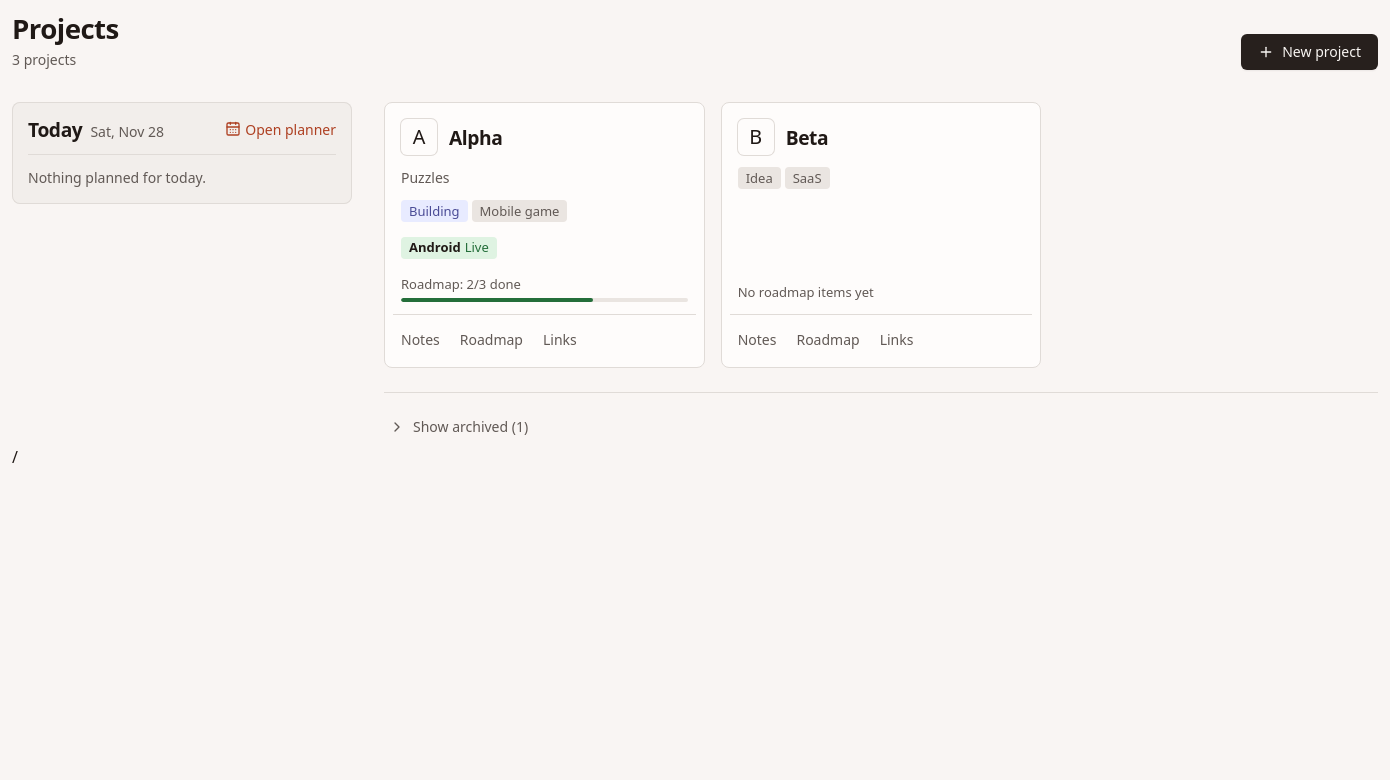
Test: DashboardPage › renders project cards sorted by order, with progress, store chips and archived ones collapsed
Expected: the headings read "Today", "Alpha", "Beta", in this order, [28,118,82,141]; [449,126,502,149]; [786,126,828,149]
Expected: the text "Puzzles" is shown, [401,168,450,187]
Click the button "Show archived (1)": [459, 427] box [372,409,545,445]
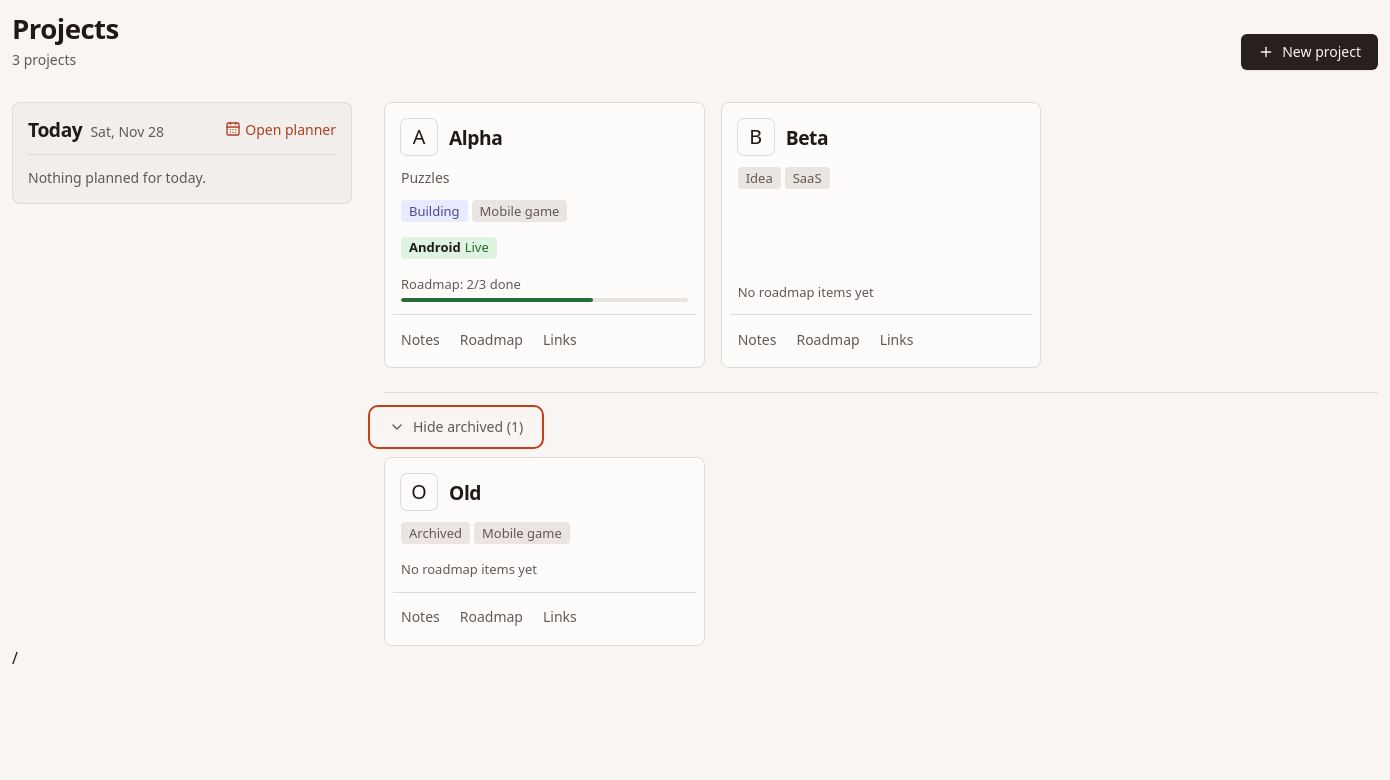
Expected: the heading "Old" is shown, [449,481,481,504]
